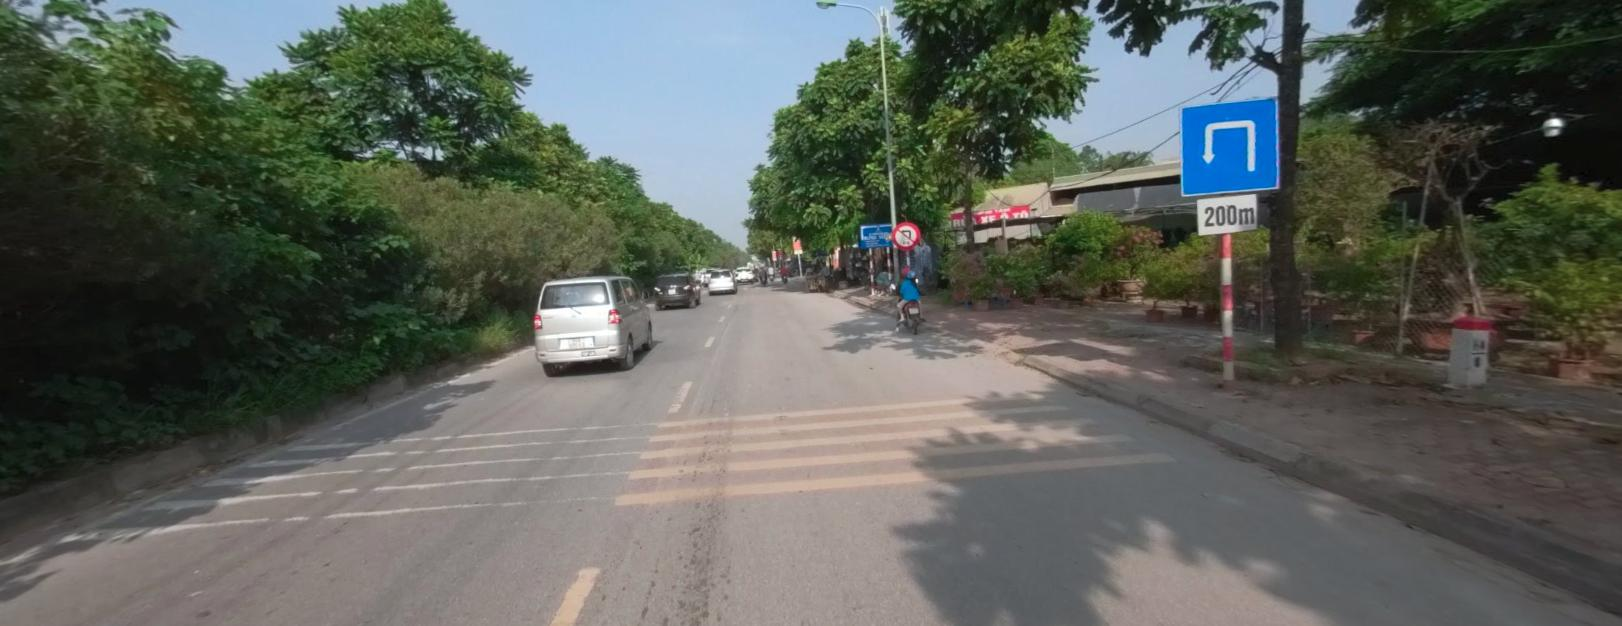Cam re: (891, 221, 920, 247)
